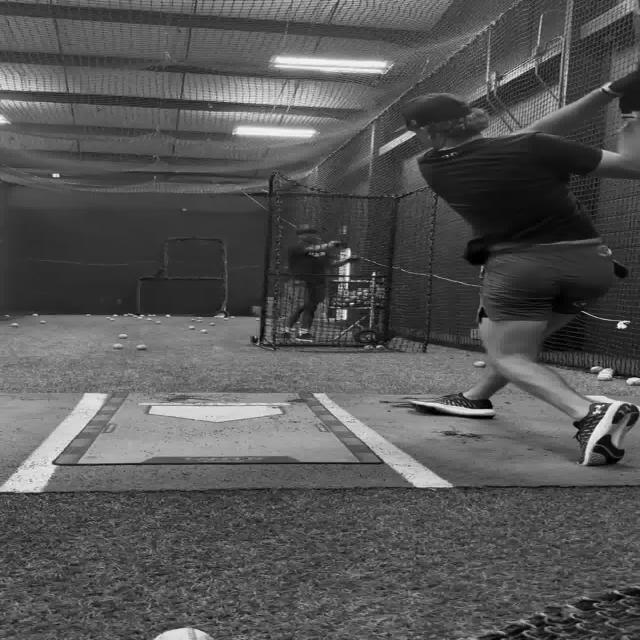base: (150, 406, 290, 420)
baseball: (153, 628, 214, 640), (625, 378, 639, 386), (589, 366, 601, 374), (472, 361, 486, 367), (135, 344, 147, 350), (112, 344, 123, 349), (9, 322, 18, 327), (363, 345, 372, 350), (117, 334, 127, 338), (199, 329, 207, 333), (154, 320, 162, 324), (188, 326, 195, 330), (39, 320, 46, 324), (209, 322, 215, 326), (32, 314, 38, 316)
shoe: (572, 401, 638, 466), (408, 392, 495, 418), (294, 332, 314, 342)
